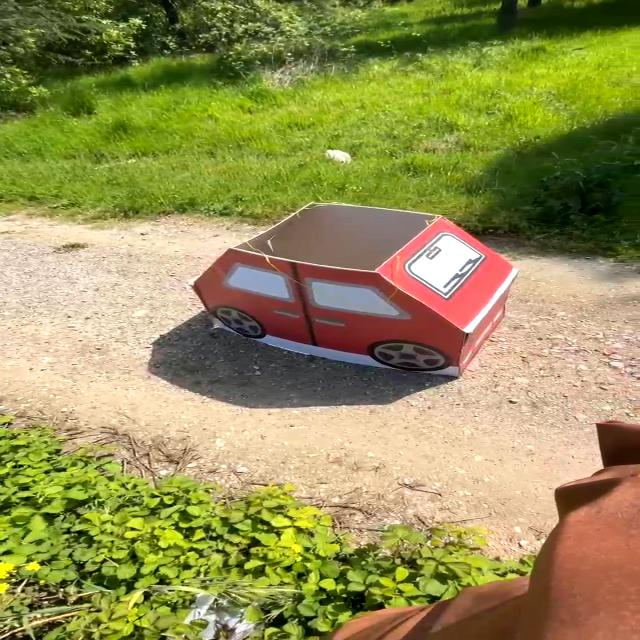red_car: (176, 186, 539, 391)
